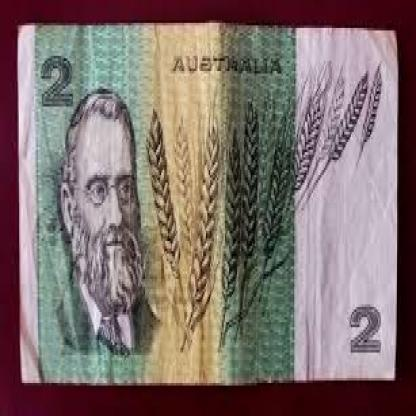billete: (15, 20, 397, 378)
